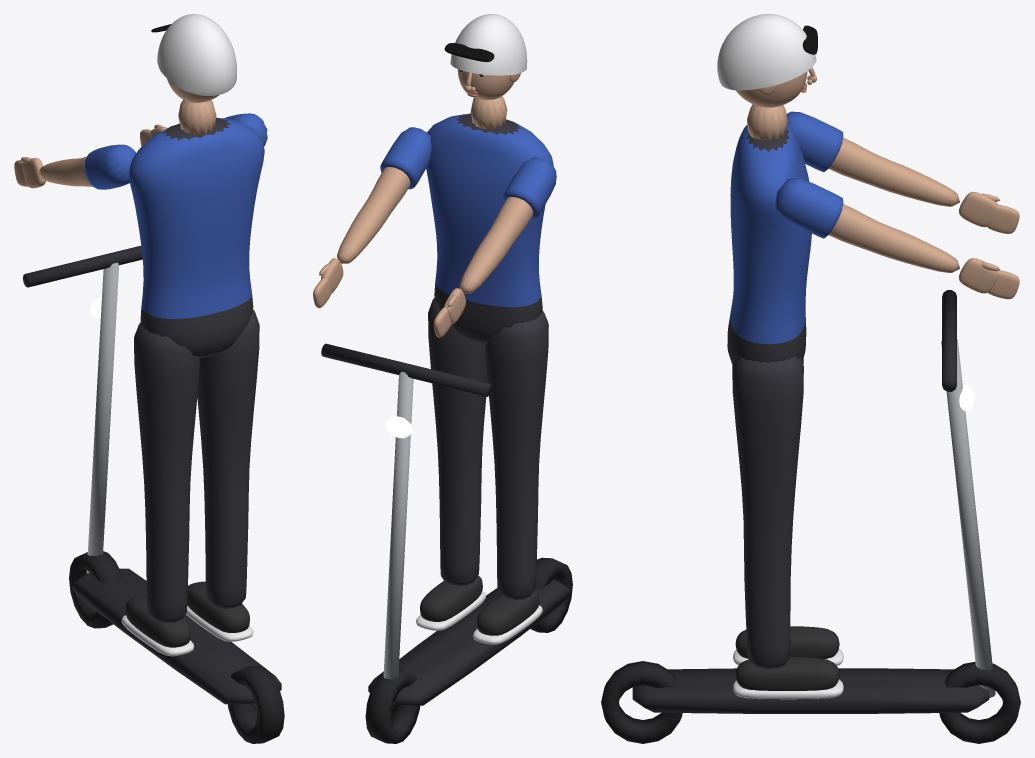
The model's file is scooter.glb.
The picture shows the model from 3 angles, left to right: view 1: azimuth 30°, elevation 25°; view 2: azimuth 150°, elevation 25°; view 3: azimuth 270°, elevation 25°; orthographic projection. The views are drawn at different scales.
Visible parts, largest first — view 1: body.007, scootermesh, leg_r.003, leg_l.003, arm_r.003, arm_l.003; view 2: body.007, scootermesh, leg_r.003, leg_l.003, arm_r.003, arm_l.003; view 3: scootermesh, body.007, leg_l.003, arm_l.003, arm_r.003, leg_r.003.
Part boxes in pixels (bbox=[...]): body.007: bbox=[129, 14, 264, 358]; scootermesh: bbox=[23, 245, 284, 743]; leg_r.003: bbox=[121, 322, 200, 656]; leg_l.003: bbox=[186, 309, 259, 641]; arm_r.003: bbox=[14, 144, 136, 189]; arm_l.003: bbox=[140, 113, 267, 146]; body.007: bbox=[426, 14, 553, 344]; scootermesh: bbox=[321, 343, 572, 743]; leg_r.003: bbox=[473, 310, 548, 644]; leg_l.003: bbox=[416, 298, 487, 630]; arm_r.003: bbox=[433, 157, 556, 337]; arm_l.003: bbox=[313, 127, 431, 308]; scootermesh: bbox=[601, 290, 1020, 743]; body.007: bbox=[717, 14, 817, 364]; leg_l.003: bbox=[732, 356, 843, 699]; arm_l.003: bbox=[774, 178, 1019, 299]; arm_r.003: bbox=[786, 111, 1019, 233]; leg_r.003: bbox=[733, 359, 843, 665].
Size of the model in its own units: 0.5 by 1.9 by 1.
